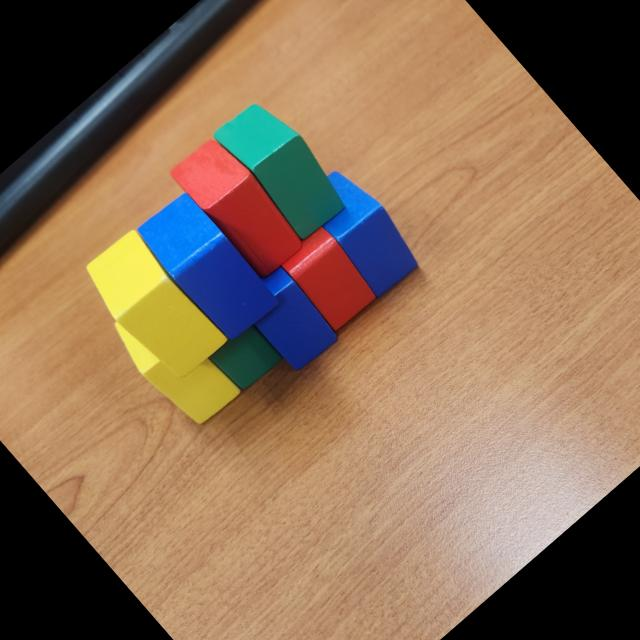blue: (132, 186, 284, 346), (294, 160, 430, 302), (233, 262, 344, 376)
green: (210, 89, 357, 244), (207, 318, 286, 396)
red: (167, 129, 311, 282), (276, 223, 383, 333)
yellow: (75, 225, 230, 387), (104, 288, 246, 436)
